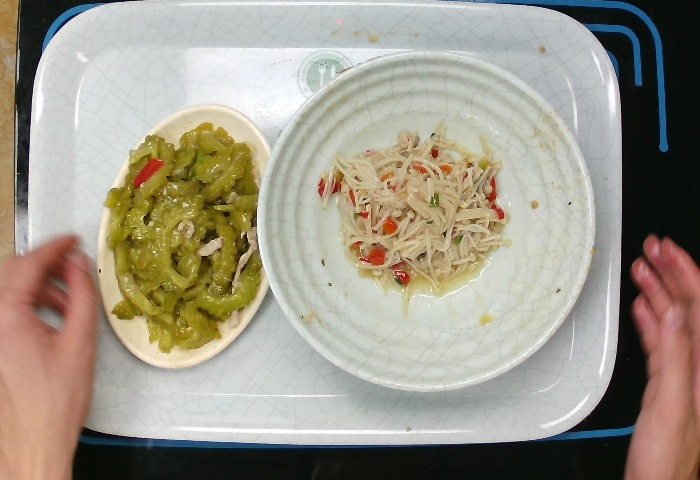JYsf-Da_Tang_Wan: (252, 45, 599, 396)
JYsf-Tuo_Yuan_Wan: (90, 94, 280, 373)
